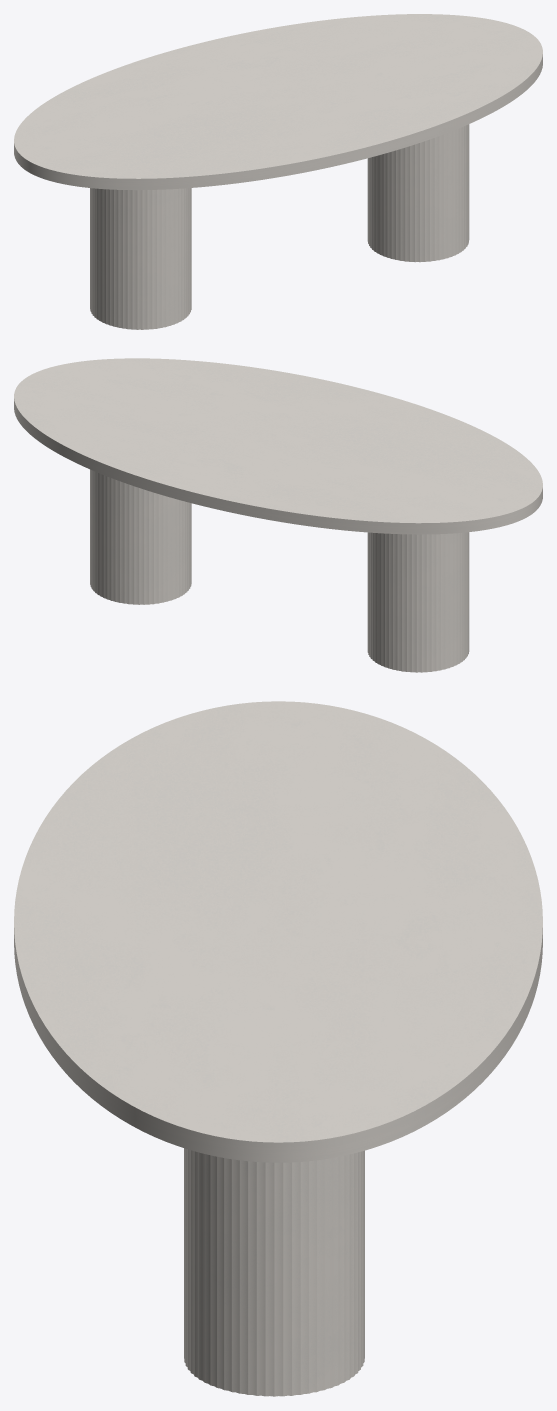
The model's file is pearlwhite_ellips_standard_ripplesecond.glb.
The picture shows the model from 3 angles, top to bottom: view 1: azimuth 30°, elevation 25°; view 2: azimuth 150°, elevation 25°; view 3: azimuth 270°, elevation 25°; orthographic projection. The views are drawn at different scales.
Visible parts, largest first — view 1: standard_ellips, ripplesecond; view 2: standard_ellips, ripplesecond; view 3: standard_ellips, ripplesecond.
Boxes of the visible parts, bbox=[...] form: standard_ellips: bbox=[14, 14, 542, 190]; ripplesecond: bbox=[90, 124, 469, 329]; standard_ellips: bbox=[14, 358, 542, 534]; ripplesecond: bbox=[90, 469, 469, 672]; standard_ellips: bbox=[14, 701, 542, 1162]; ripplesecond: bbox=[184, 1148, 364, 1396].
Size of the model in its own units: 7.5 by 2.5 by 3.8.
Materials: 1 (1 with a texture image).
